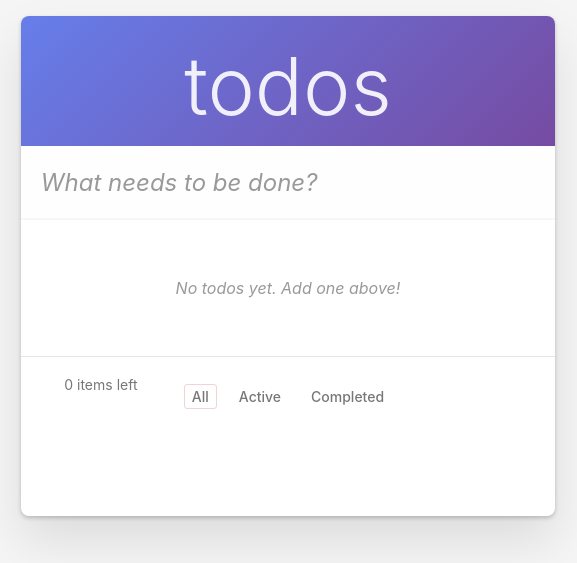
Test case: Todo App › Counter › should show correct singular/plural text
The image size is (577, 563).
Expected: the text "0 items left" is shown, [64,376,138,393]
In the field with placeholder "What needs to be done?": x=288, y=183 [21,146,555,220], type "Single todo"
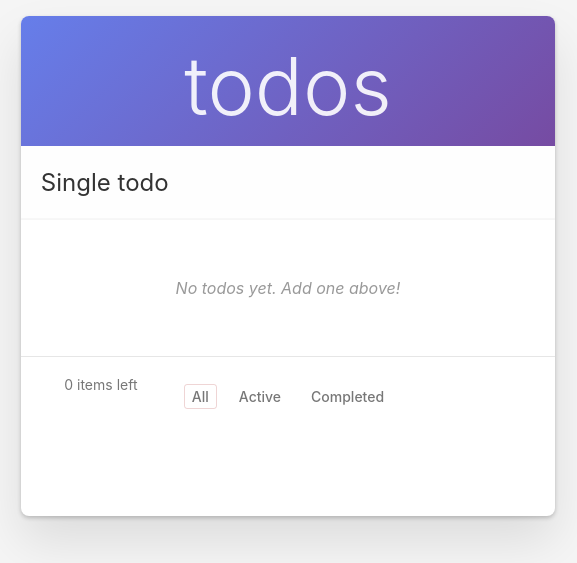
Press Enter
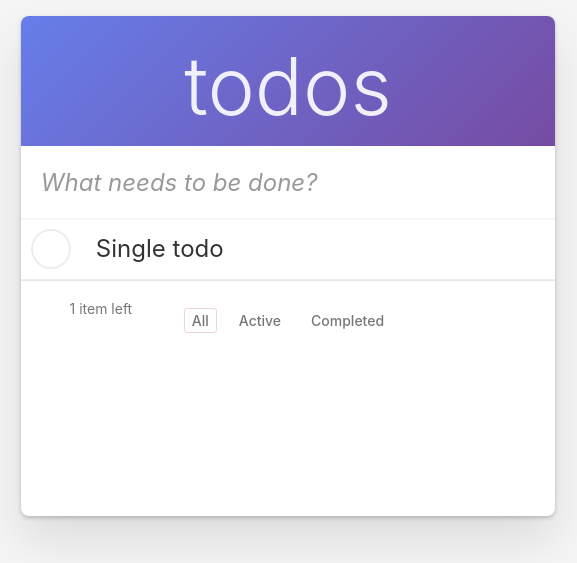
Result: the text "1 item left" is shown at [70,300,132,317]
In the field with placeholder "What needs to be done?": x=288, y=183 [21,146,555,220], type "Second todo"
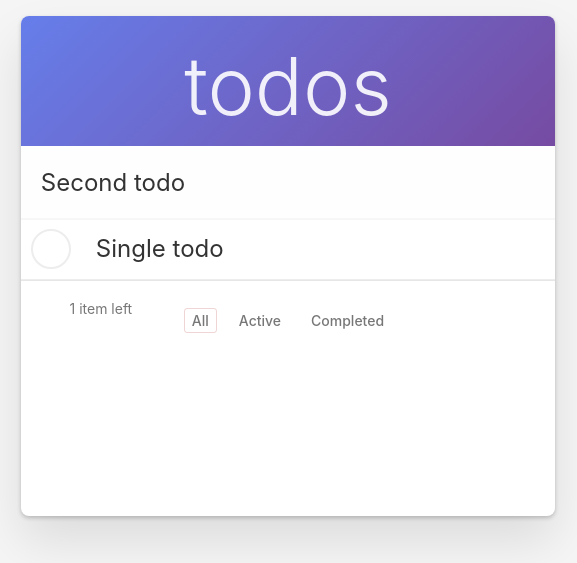
Press Enter
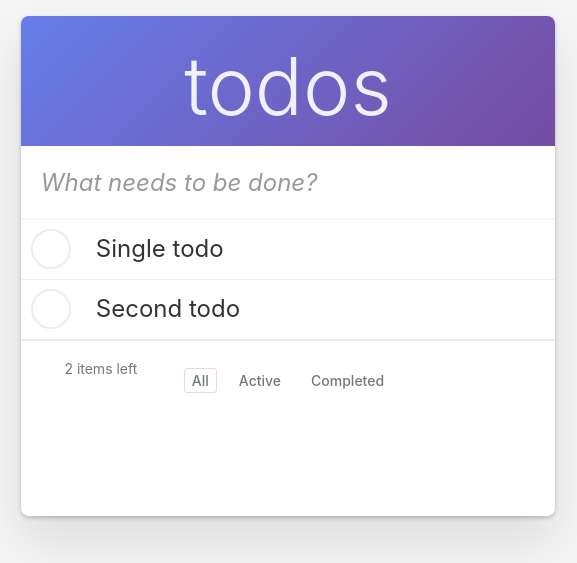
Result: the text "2 items left" is shown at [64,360,137,377]
